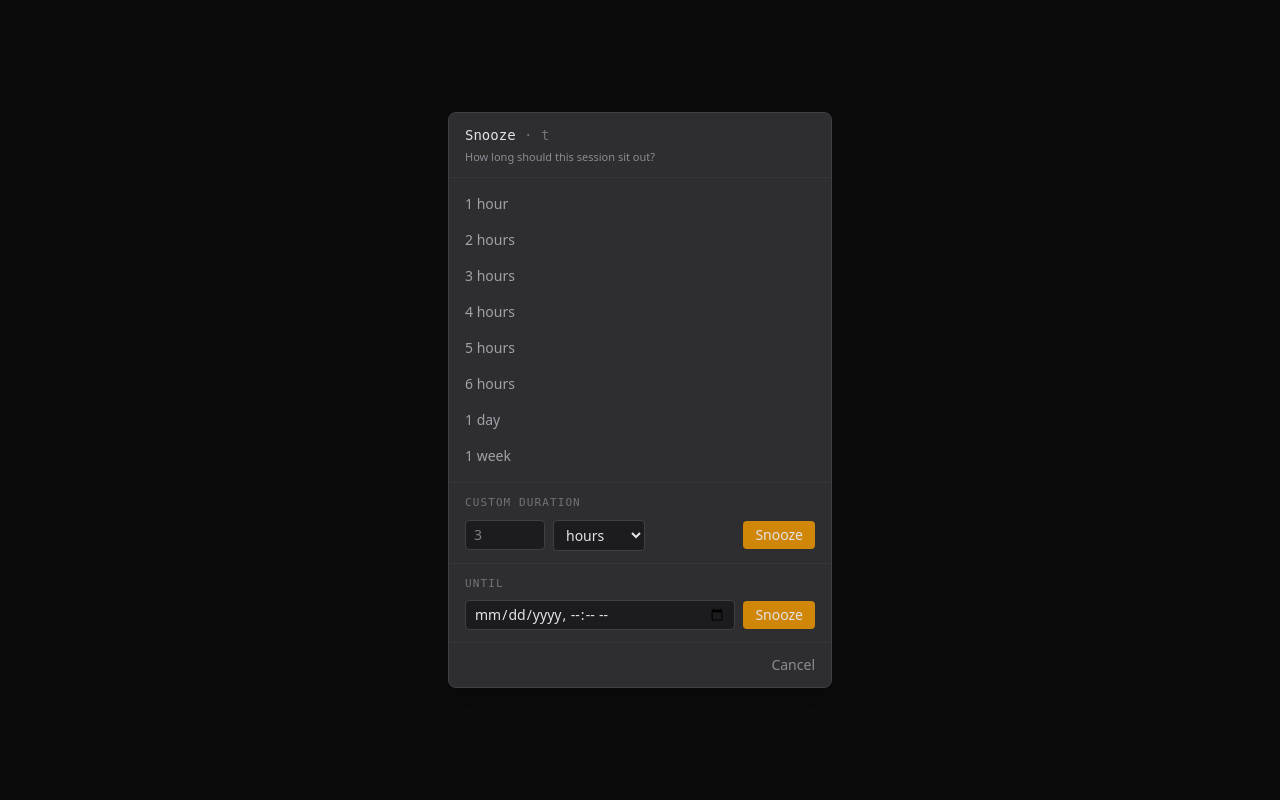
Scenario: with a fixed clock › rejects an empty until value
The image size is (1280, 800).
What coordinates should you click on to do the following:
click the button with test id "snooze-modal-until-submit"
I would click on:
 (779, 615)
Its box is 743,601 -> 815,629.
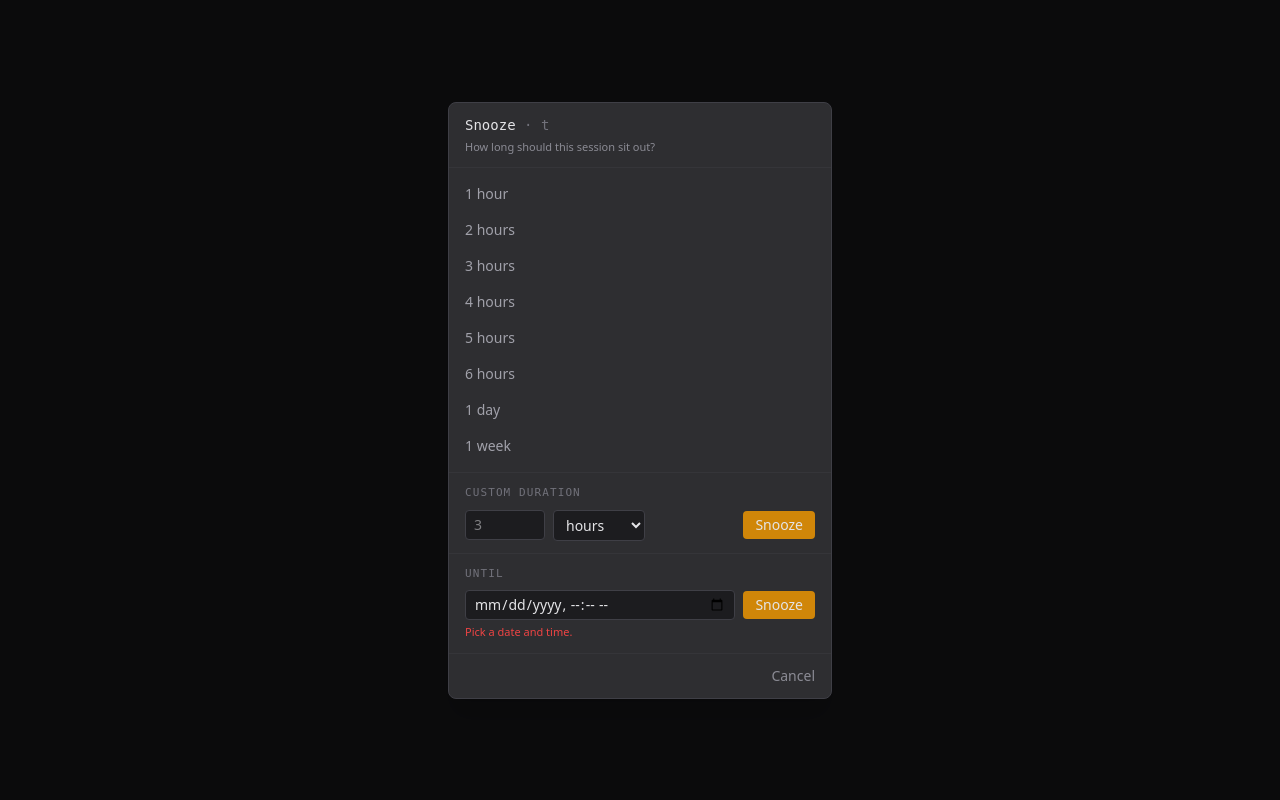
Expected: the message "Pick a date and time." is shown, 465,624 -> 572,639
